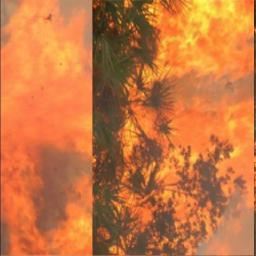Heavy smoke: (1, 0, 92, 256)
Large fire: (119, 1, 249, 249)
